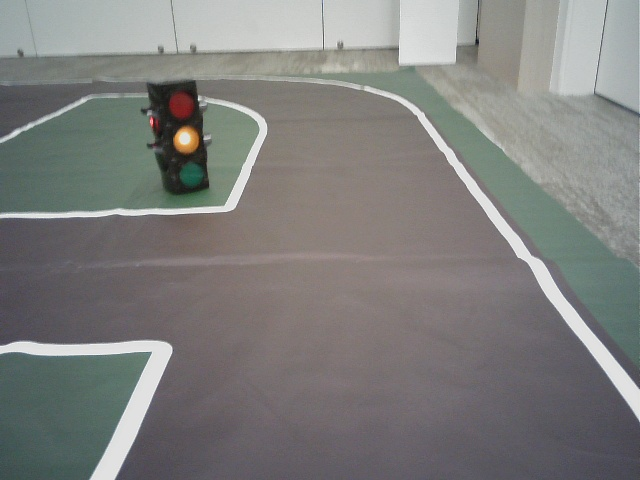yellow: (163, 85, 205, 188)
